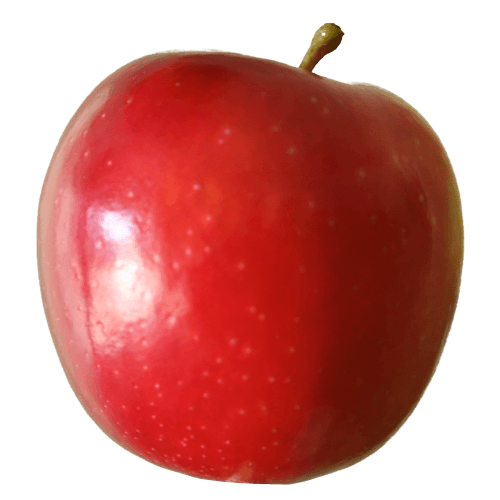apple: (36, 21, 466, 487)
